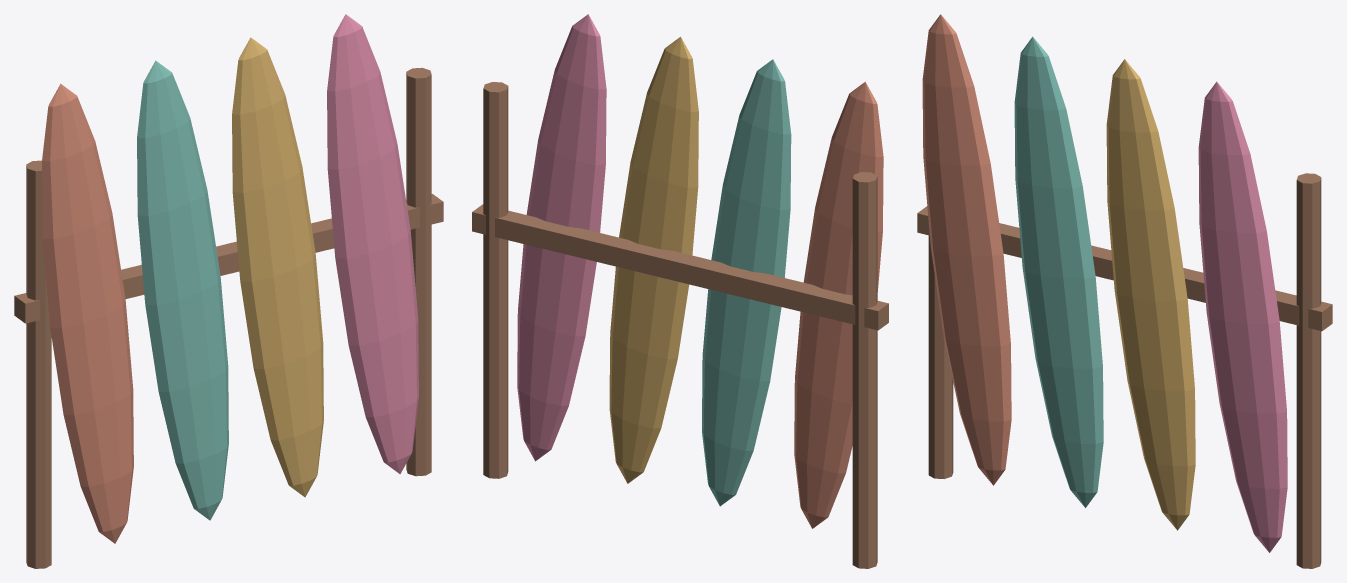
File: surfboardRack.obj
3 renders of one model, left to right at view 1: azimuth 30°, elevation 25°; view 2: azimuth 150°, elevation 25°; view 3: azimuth 330°, elevation 25°, orthographic. The views are drawn at different scales.
Parts seen in each view (by area): view 1: surfboardRack; view 2: surfboardRack; view 3: surfboardRack.
Boxes of the visible parts, x1,y1,x2,y2 form: surfboardRack: (14, 14, 443, 568); surfboardRack: (472, 14, 888, 568); surfboardRack: (917, 14, 1332, 568).
Bounding box in the file's own units: 2.2 × 2.44 × 0.2266.
